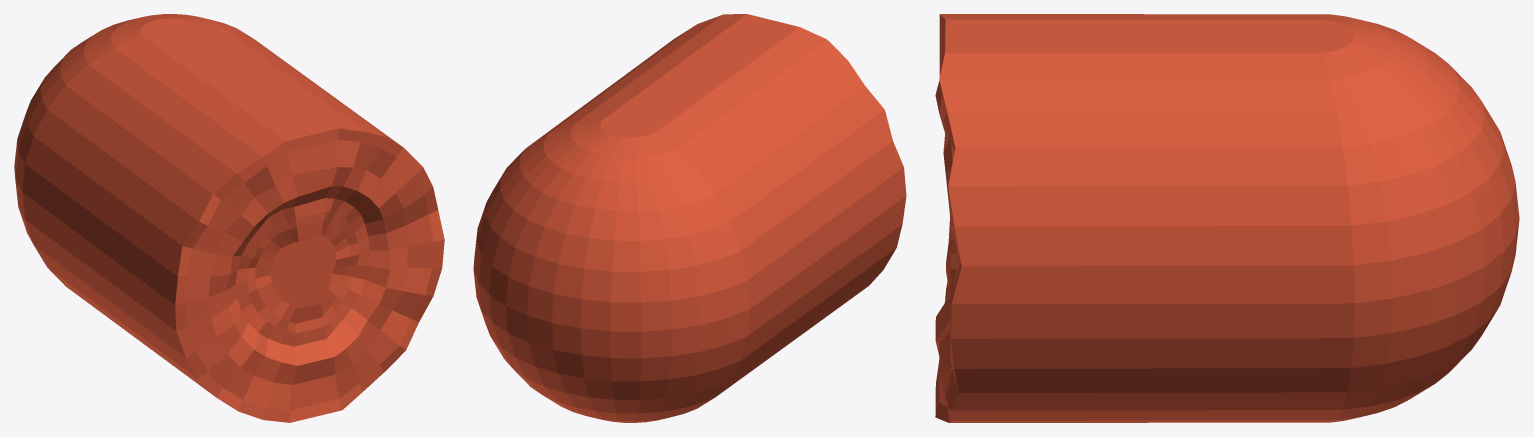
The model's file is redPillyHalf.fbx.
3 renders of one model, left to right at view 1: azimuth 30°, elevation 25°; view 2: azimuth 150°, elevation 25°; view 3: azimuth 270°, elevation 25°, orthographic. The views are drawn at different scales.
Parts seen in each view (by area): view 1: red; view 2: red; view 3: red.
Boxes of the visible parts, x1,y1,x2,y2 form: red: [14, 14, 444, 422]; red: [473, 14, 906, 422]; red: [935, 14, 1519, 422].
Bounding box in the file's own units: 198 × 196 × 285.
Materials: 1 (1 with a texture image).
